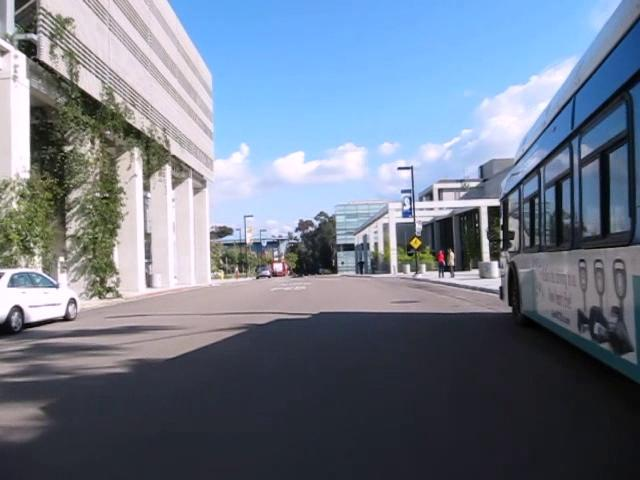pedestrianCrossing: (409, 236, 422, 249)
